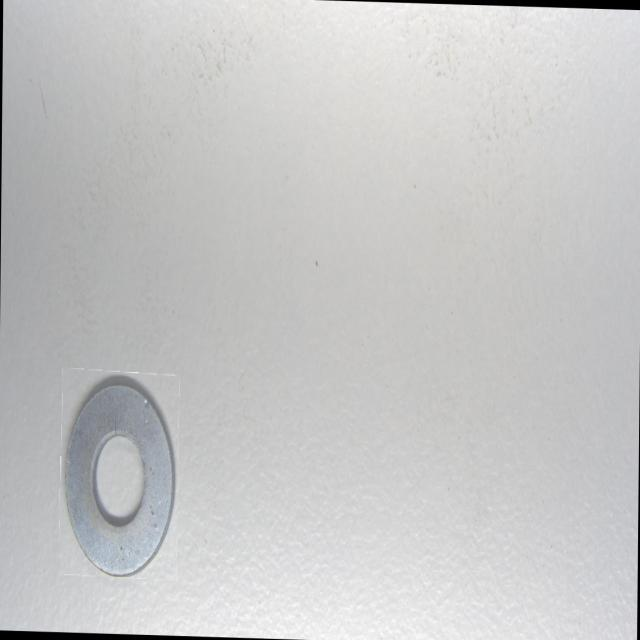washer: (61, 372, 177, 577)
